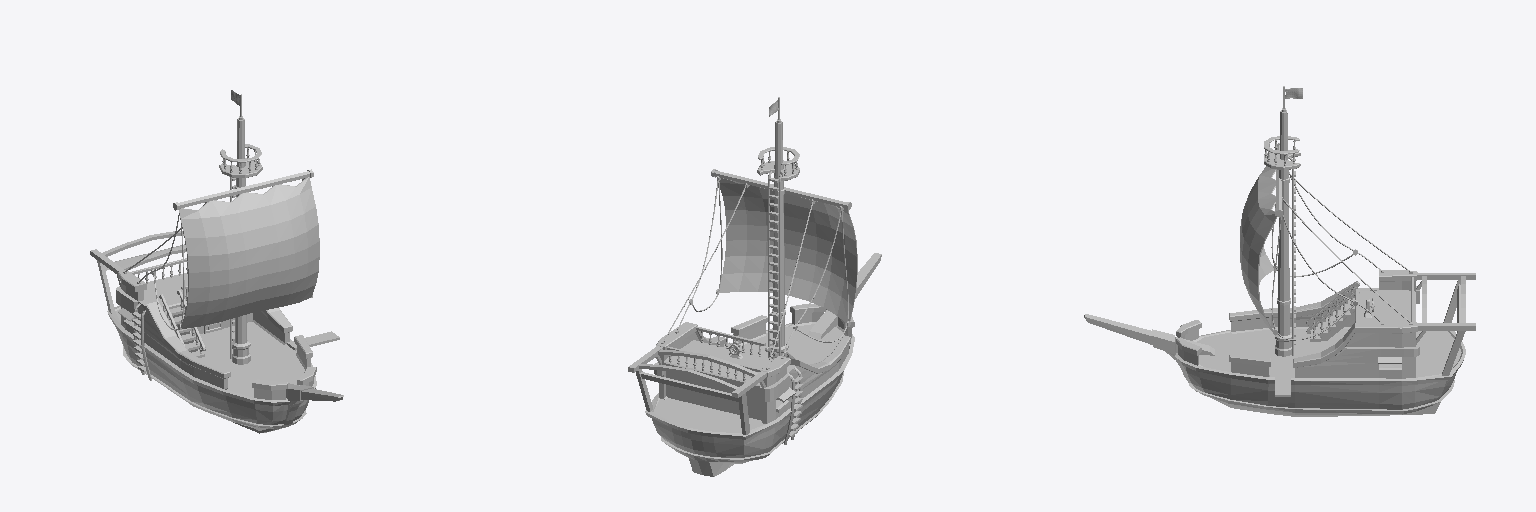
Rendered from Sloop.obj.
3 views of the same model, side by side, from view 1: azimuth 30°, elevation 25°; view 2: azimuth 150°, elevation 25°; view 3: azimuth 270°, elevation 25° (orthographic).
Visible parts, largest first — view 1: Sloop pCube41, ShipBody Sloop, Sloop SecondLevelFLoor, Sloop pasted__pCylinder49, Sloop group22_pCube25, Sloop ImprovedStairs_pCube24; view 2: Sloop pCube41, ShipBody Sloop, Sloop SecondLevelFLoor, Sloop pasted__pCylinder49, Sloop group22_pCube25, Sloop Stairtes21 BigLadder Stairtes20 Stairtes19 Stairtes18 Stai; view 3: ShipBody Sloop, Sloop SecondLevelFLoor, Sloop pasted__pCylinder49, Sloop pCube41, Sloop group22_pCube25, Sloop ImprovedStairs_pCube24, Sloop pCube42.
Boxes of the visible parts, box(x1,y1,x2,y2) form: Sloop pCube41: box(123, 169, 319, 330); ShipBody Sloop: box(107, 270, 316, 433); Sloop SecondLevelFLoor: box(115, 273, 304, 399); Sloop pasted__pCylinder49: box(134, 90, 343, 401); Sloop group22_pCube25: box(90, 231, 187, 313); Sloop ImprovedStairs_pCube24: box(159, 290, 205, 357); Sloop pCube41: box(661, 169, 857, 369); ShipBody Sloop: box(645, 304, 854, 476); Sloop SecondLevelFLoor: box(653, 324, 849, 432); Sloop pasted__pCylinder49: box(757, 97, 881, 444); Sloop group22_pCube25: box(628, 326, 766, 434); Sloop Stairtes21 BigLadder Stairtes20 Stairtes19 Stairtes18 Stai: box(769, 178, 778, 357); ShipBody Sloop: box(1165, 270, 1465, 416); Sloop SecondLevelFLoor: box(1197, 290, 1461, 377); Sloop pasted__pCylinder49: box(1084, 86, 1302, 356); Sloop pCube41: box(1240, 143, 1412, 340); Sloop group22_pCube25: box(1356, 273, 1475, 375); Sloop ImprovedStairs_pCube24: box(1306, 282, 1359, 341); Sloop pCube42: box(1275, 357, 1401, 396).
Bounding box in the file's own units: 9.91 × 18.96 × 20.64.